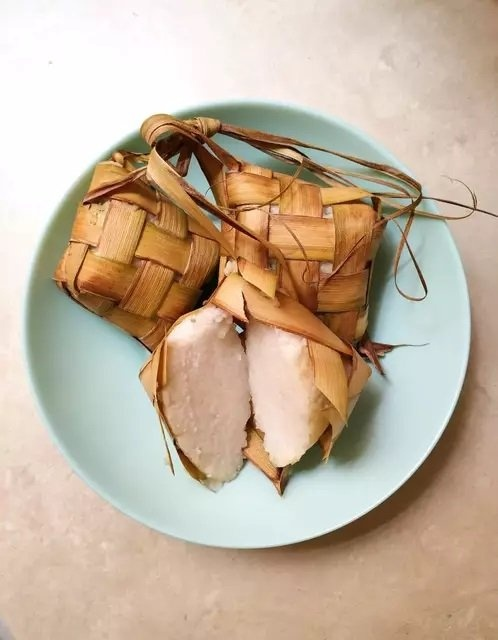ketupat: (214, 160, 387, 334), (52, 160, 204, 355)
